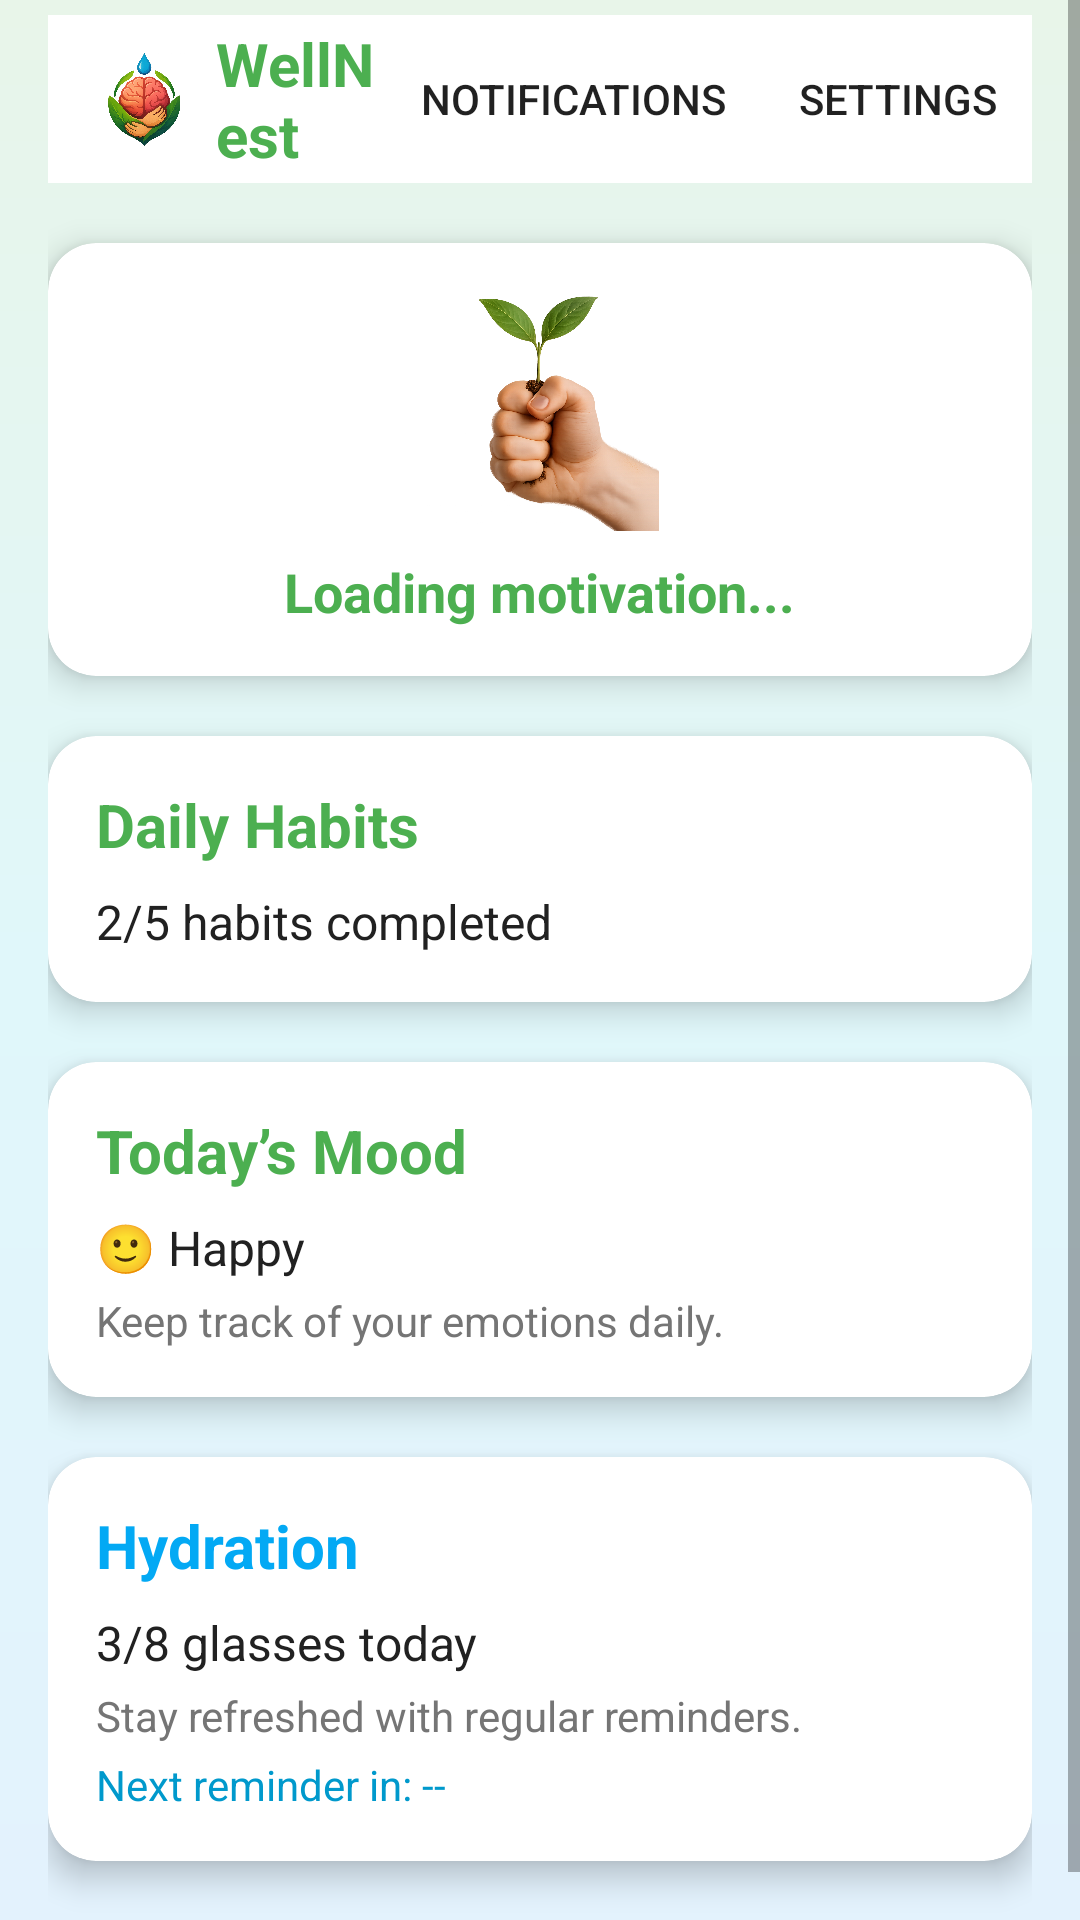

Point at icon controls on the screen. Image size 1080×1920, points as (x=x, y=y).
Motivational Image: (x=569, y=413)
